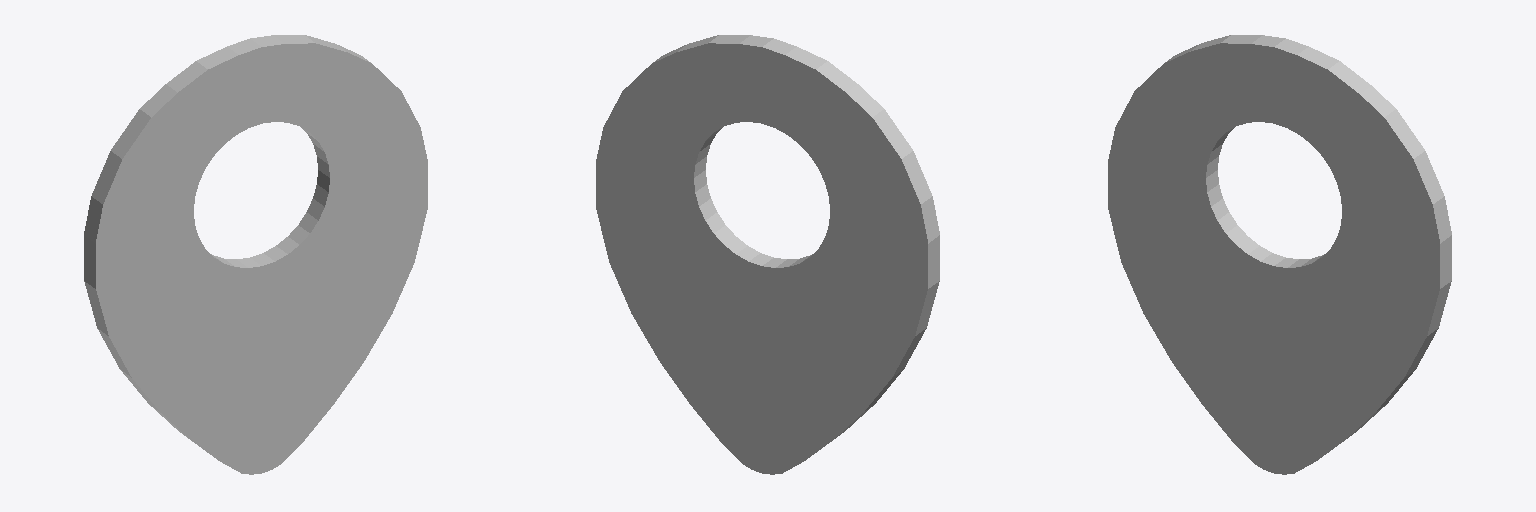
File: map_pointer.obj
The picture shows the model from 3 angles: view 1: azimuth 30°, elevation 25°; view 2: azimuth 150°, elevation 25°; view 3: azimuth 330°, elevation 25°; orthographic projection.
Visible parts, largest first — view 1: lp; view 2: lp; view 3: lp.
Part boxes in pixels (x1,y1,x2,y2): lp: (84,35,427,474); lp: (596,35,939,474); lp: (1108,35,1451,474).
Bounding box in the file's own units: 3.23 × 3.95 × 0.2.